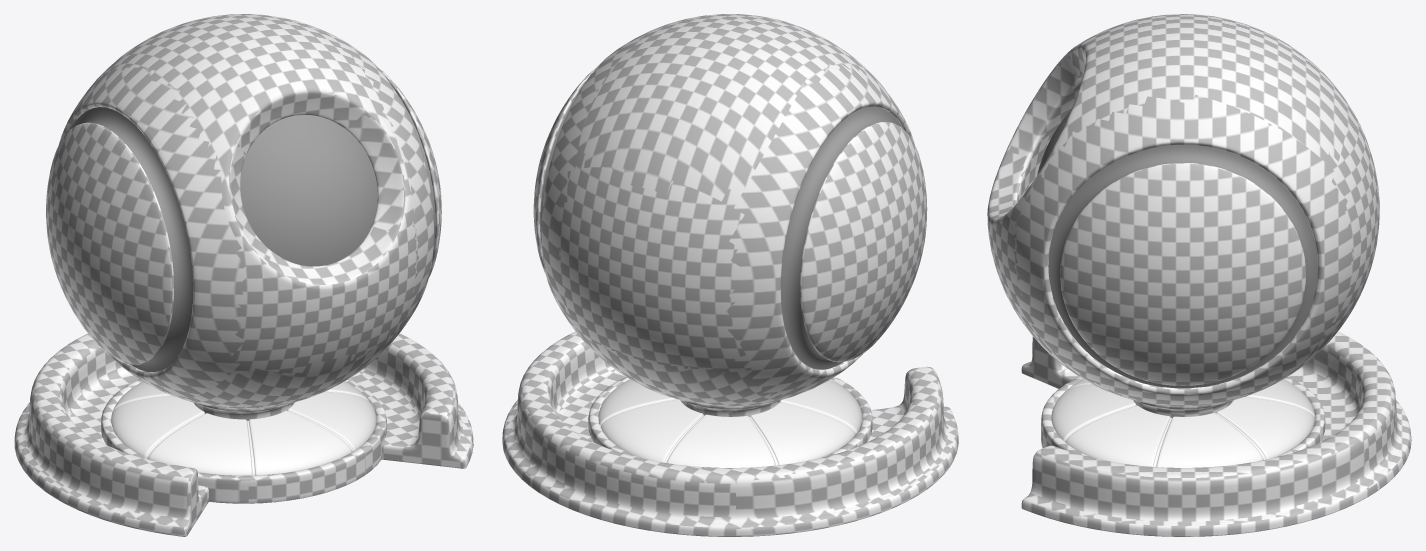
File: uvmappingball.fbx
The picture shows the model from 3 angles, left to right: view 1: azimuth 30°, elevation 25°; view 2: azimuth 150°, elevation 25°; view 3: azimuth 270°, elevation 25°; orthographic projection.
Parts seen in each view (by area): view 1: MaterialBase; view 2: MaterialBase; view 3: MaterialBase.
Boxes of the visible parts, x1,y1,x2,y2 form: MaterialBase: (14, 14, 473, 536); MaterialBase: (502, 14, 958, 536); MaterialBase: (987, 14, 1411, 536).
Size of the model in its own units: 1.95 by 1.92 by 1.81.
